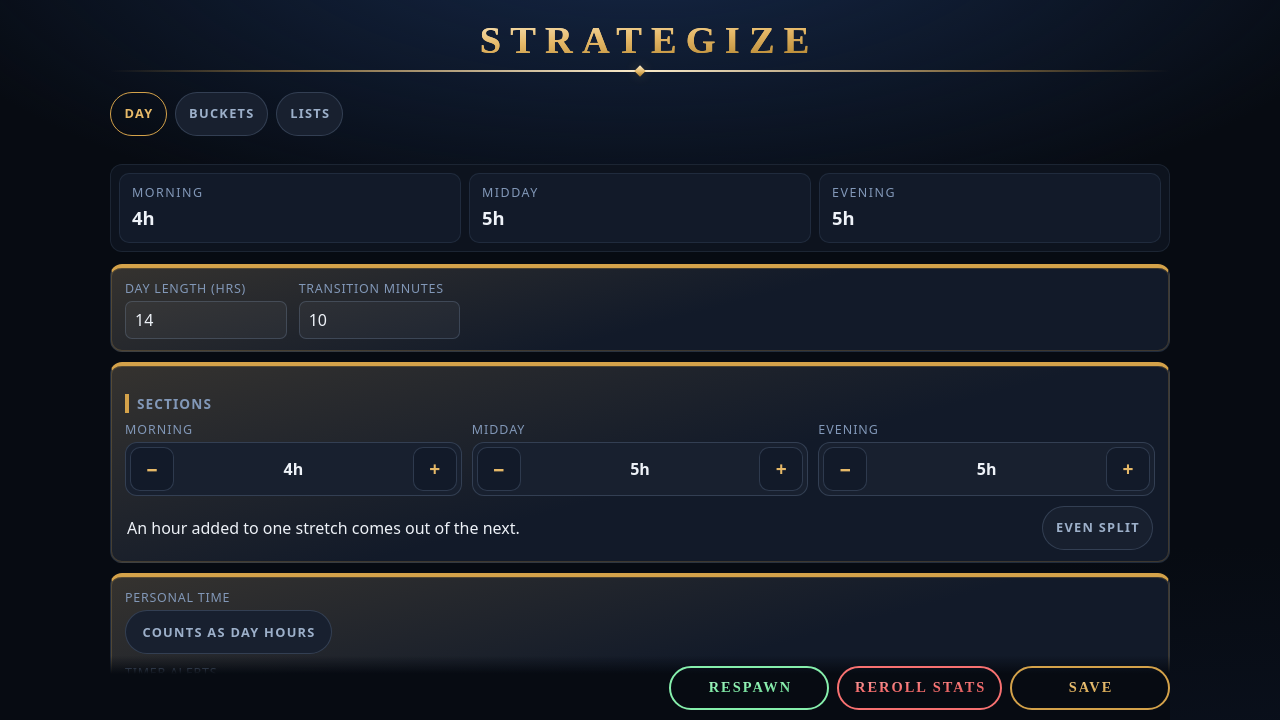
Test: Edit Buckets regressions › says "Could not load." when the buckets listener was refused
The image size is (1280, 720).
Step 1. Click the button "Buckets" → x=221, y=114, box x1=175 y1=92 x2=268 y2=136
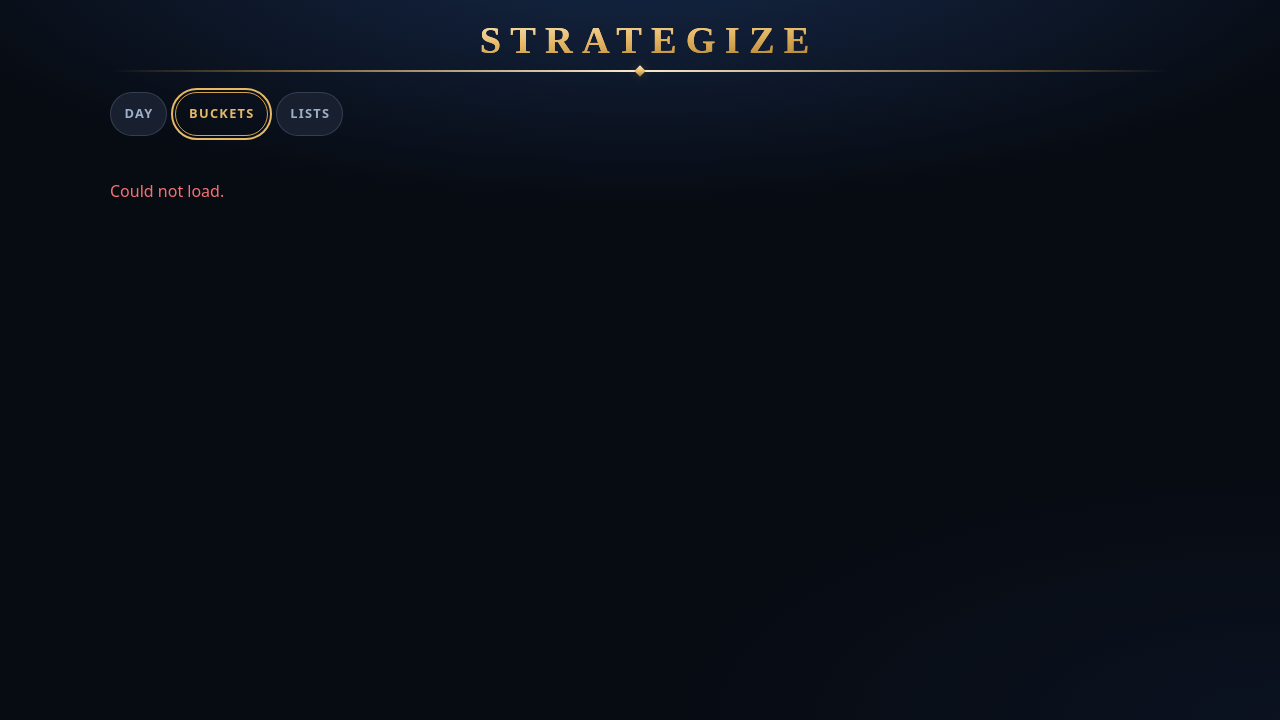
Expected: the text "Could not load." is shown, x1=110 y1=180 x2=224 y2=202
